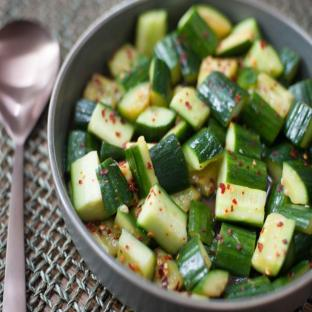Cucumber: (137, 184, 187, 255), (197, 72, 248, 126), (252, 213, 295, 276), (71, 151, 107, 220), (150, 135, 190, 193), (215, 183, 265, 227), (241, 93, 283, 144), (216, 223, 256, 276), (96, 159, 133, 216), (178, 7, 218, 57), (88, 103, 134, 146), (262, 142, 311, 182), (176, 235, 211, 290), (125, 137, 157, 197), (118, 229, 156, 279), (218, 151, 266, 190), (170, 87, 210, 130), (183, 128, 223, 171), (255, 73, 293, 118), (136, 10, 167, 55), (135, 107, 176, 141), (65, 131, 98, 173), (245, 40, 283, 76), (115, 206, 150, 245), (84, 74, 123, 109), (86, 217, 121, 256), (173, 33, 200, 83), (154, 34, 180, 84), (225, 123, 261, 159), (118, 83, 150, 123), (282, 161, 311, 204), (154, 248, 183, 290), (285, 102, 311, 147), (198, 56, 237, 86), (117, 55, 150, 90), (197, 5, 231, 38), (272, 260, 310, 289), (189, 201, 214, 245), (275, 204, 311, 234), (150, 57, 171, 106), (215, 30, 254, 56), (225, 276, 271, 298), (109, 44, 139, 77), (190, 161, 218, 196), (193, 270, 228, 297), (266, 183, 290, 215), (171, 186, 200, 212), (279, 48, 299, 83), (75, 99, 96, 130), (163, 120, 191, 143), (232, 18, 261, 39), (289, 78, 311, 105), (280, 237, 295, 273), (208, 117, 226, 146), (237, 67, 257, 92), (100, 142, 125, 162), (294, 233, 311, 261), (204, 238, 217, 269), (130, 199, 145, 219), (119, 161, 132, 184), (178, 291, 208, 300), (67, 181, 72, 203), (173, 85, 183, 96), (126, 142, 137, 148)
